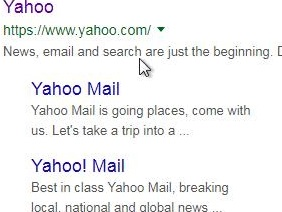cursor: (136, 56, 152, 79)
